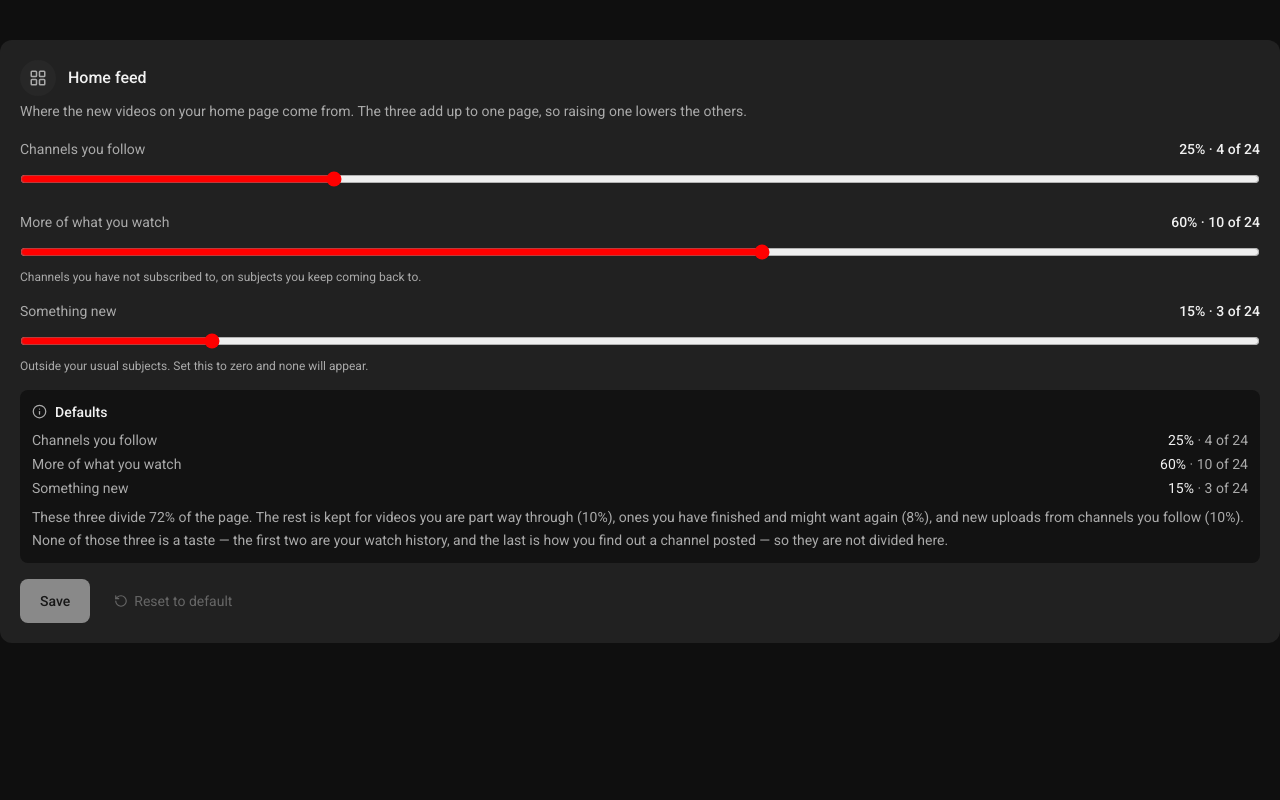
Test: FeedMixSettings › puts the defaults back
This screenshot has width=1280, height=800.
Step 1. Set the slider labelled "Something new" to "90" → (1130, 341), box 20,329 -> 1260,353
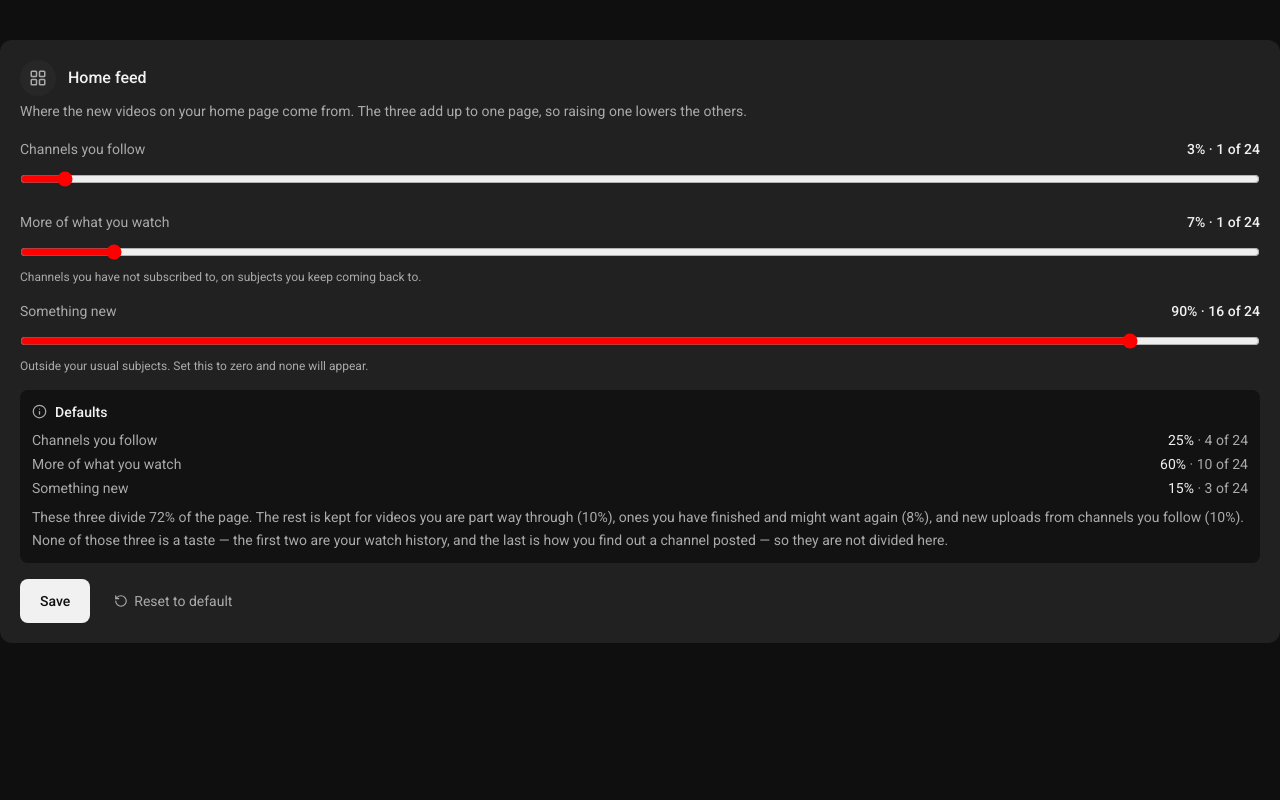
Step 2. Click the button "Reset to default" → (173, 601), box 102,579 -> 244,623
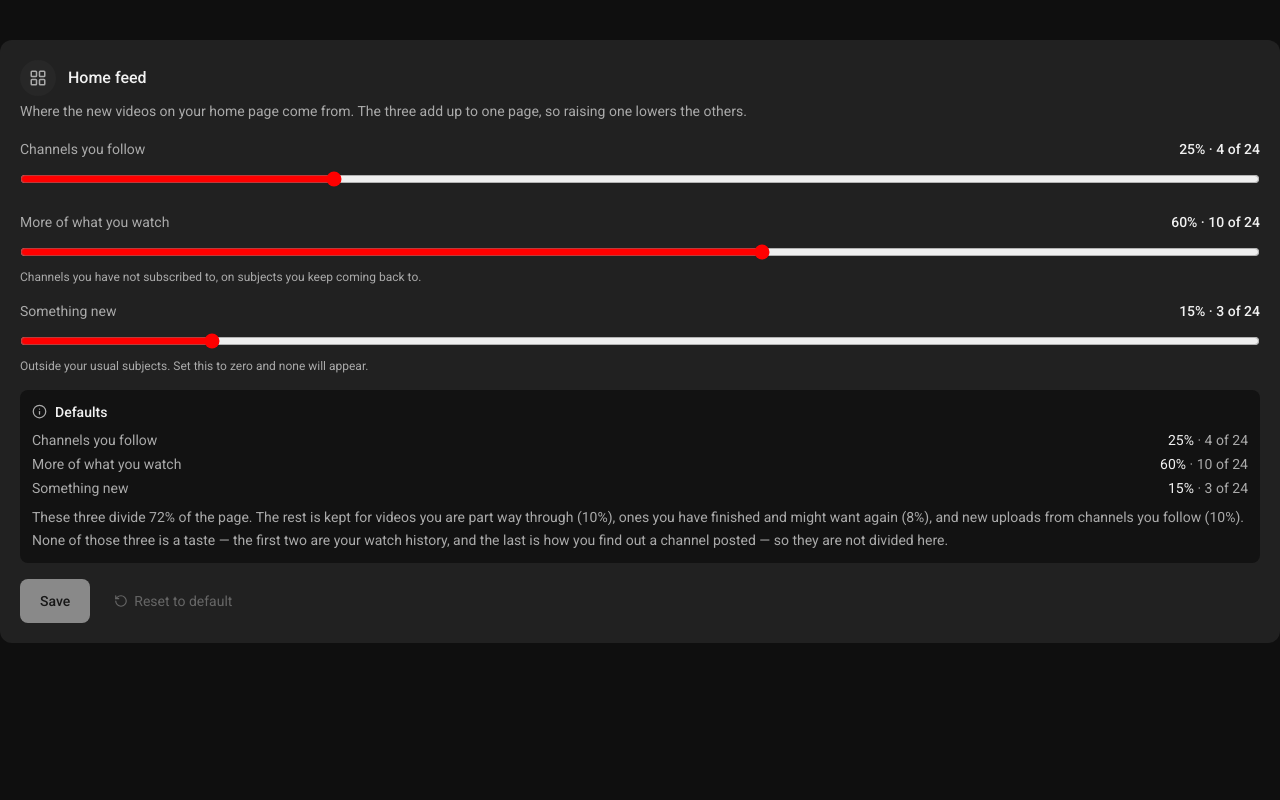
Now the slider labelled "Channels you follow" holds "25", box 20,167 -> 1260,191
Now the slider labelled "More of what you watch" holds "60", box 20,240 -> 1260,264
Now the slider labelled "Something new" holds "15", box 20,329 -> 1260,353
